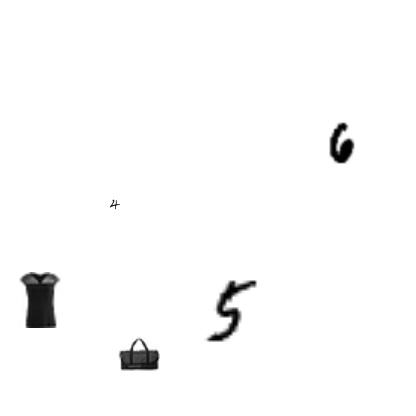4: (107, 197, 121, 211)
5: (187, 266, 271, 350)
6: (312, 117, 368, 173)
Bag: (118, 333, 160, 375)
T-shirt/top: (12, 272, 68, 328)
